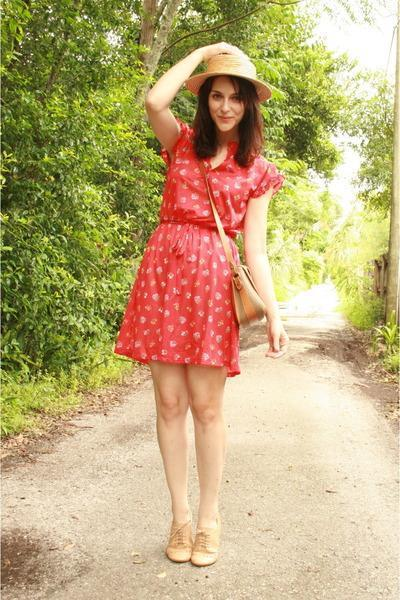bag: (217, 228, 267, 323)
dress: (114, 132, 283, 376)
hat: (180, 45, 284, 107)
shoe: (166, 516, 211, 556)
